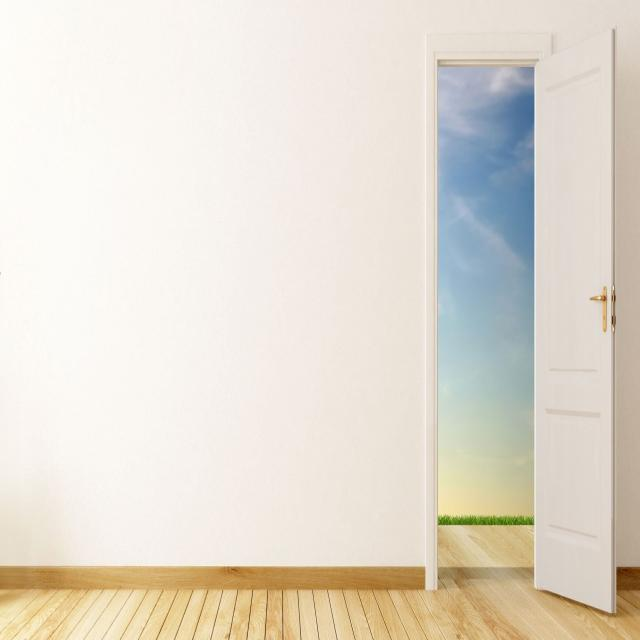open: (428, 39, 616, 608)
